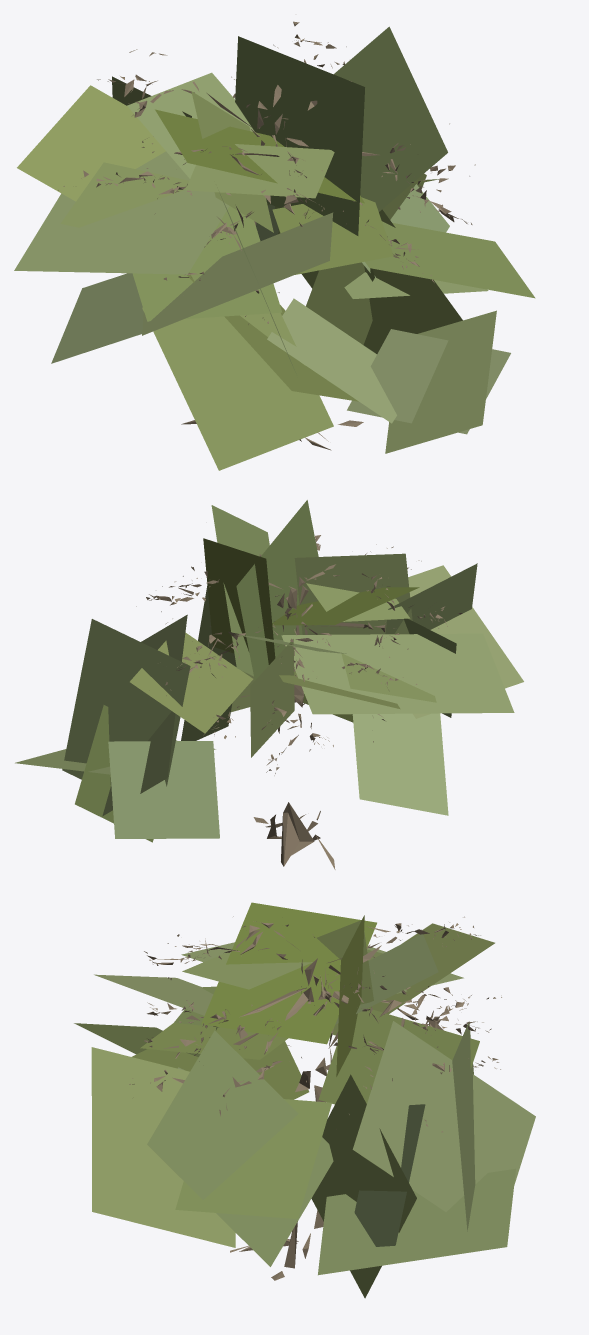
Rendered from shrub_redwood_b.glb.
3 views of the same model, one above another, from view 1: azimuth 30°, elevation 25°; view 2: azimuth 150°, elevation 25°; view 3: azimuth 270°, elevation 25° (orthographic). The views are drawn at different scales.
Parts seen in each view (by area): view 1: leaves, wood; view 2: leaves, wood; view 3: leaves, wood.
Boxes of the visible parts, x1,y1,x2,y2 form: leaves: (14,26,535,470); wood: (58,21,475,450); leaves: (15,500,523,842); wood: (136,535,462,869); leaves: (74,902,535,1298); wood: (129,916,501,1280).
Bounding box in the file's own units: 1.49 × 1.11 × 1.57.
